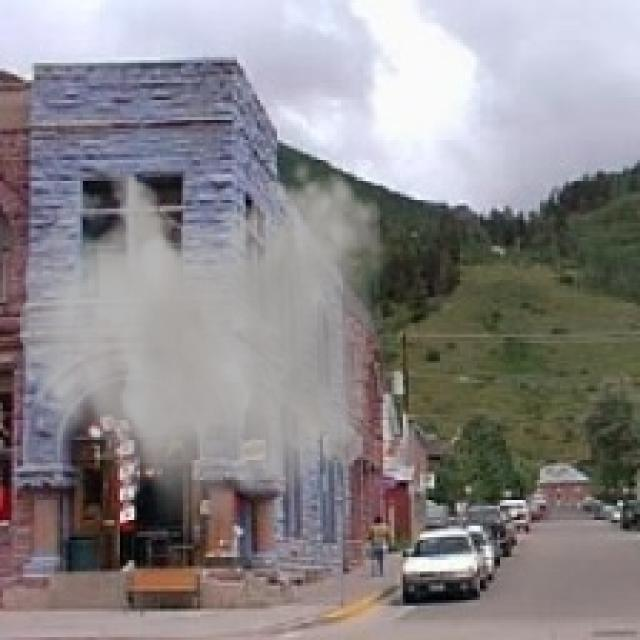smoke: (20, 160, 386, 551)
